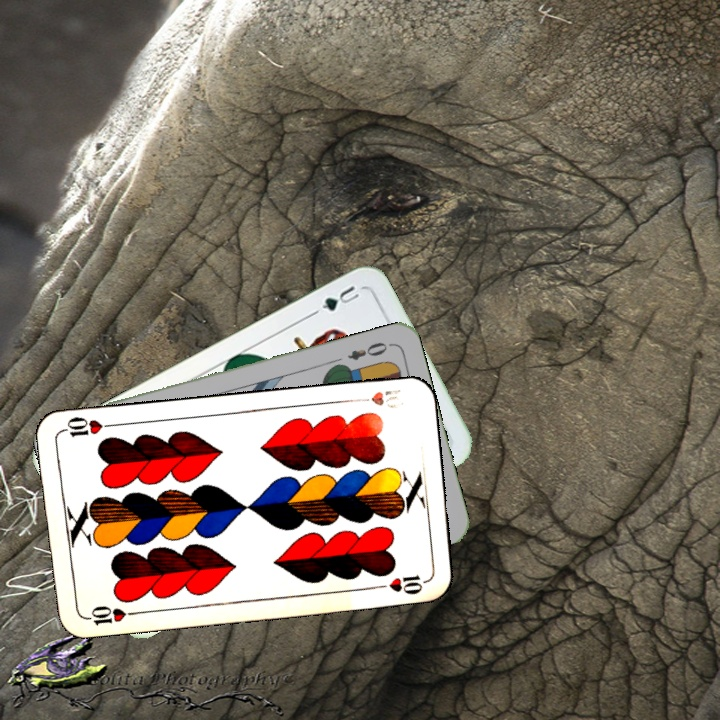EO: (343, 338, 394, 363)
GU: (317, 281, 362, 314)
H10: (80, 601, 139, 628), (350, 385, 403, 411)
